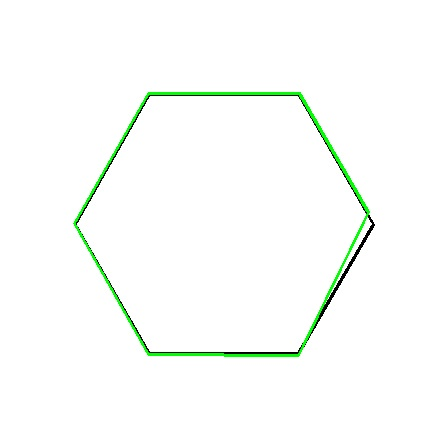line_segment: (74, 92, 375, 356)
